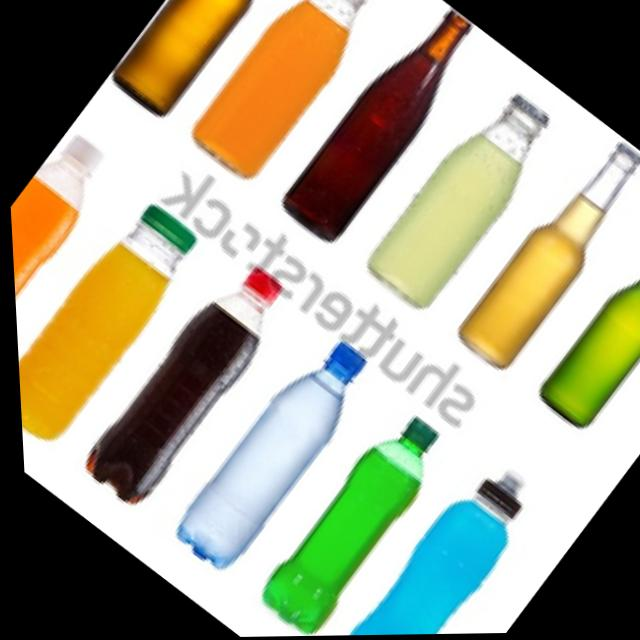glass_beverage_bottles: (262, 0, 504, 254), (349, 78, 577, 320), (430, 131, 640, 383), (179, 0, 401, 187), (521, 207, 640, 439), (105, 0, 333, 121)
plastic_soda_bottles: (61, 249, 308, 516), (233, 397, 461, 637), (8, 197, 207, 445), (311, 463, 537, 637), (5, 128, 125, 381)
plastic_water_bottles: (155, 325, 384, 574)
